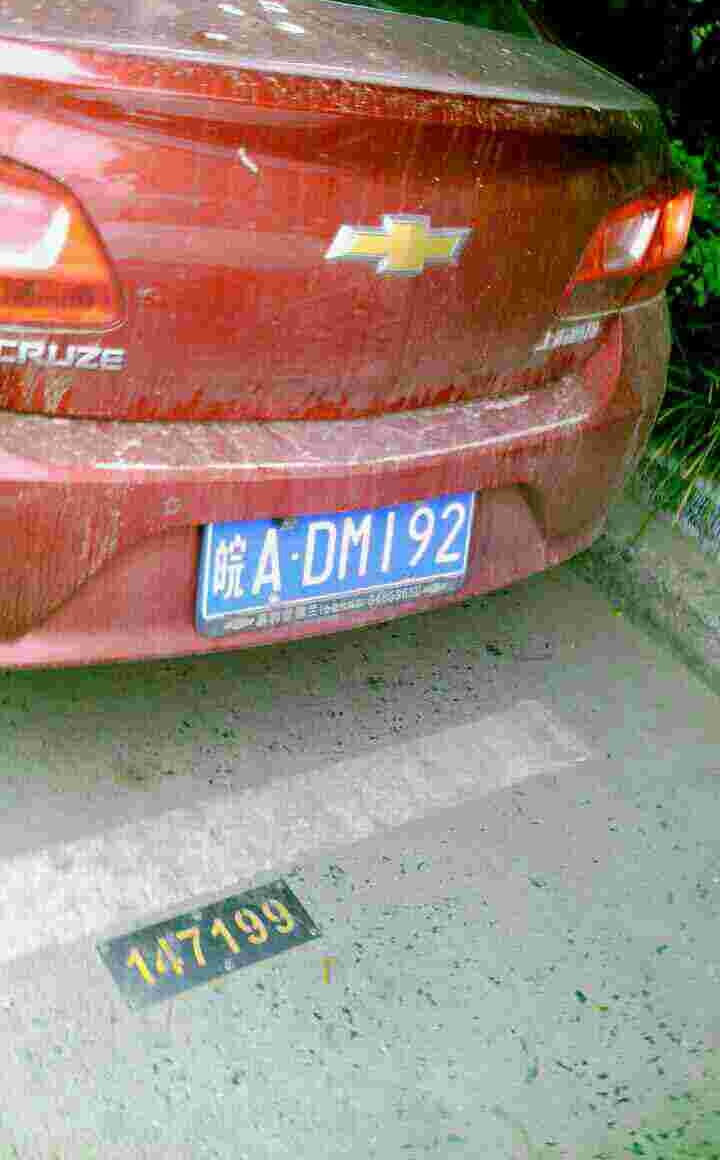license_plate: (203, 494, 482, 622)
